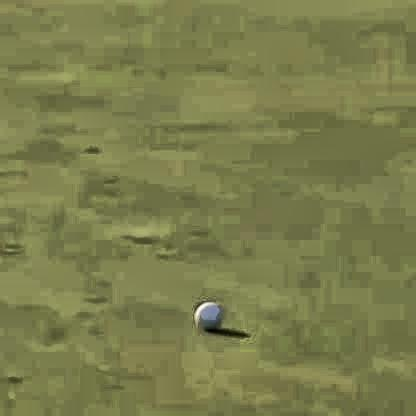golfball: (190, 294, 223, 331)
